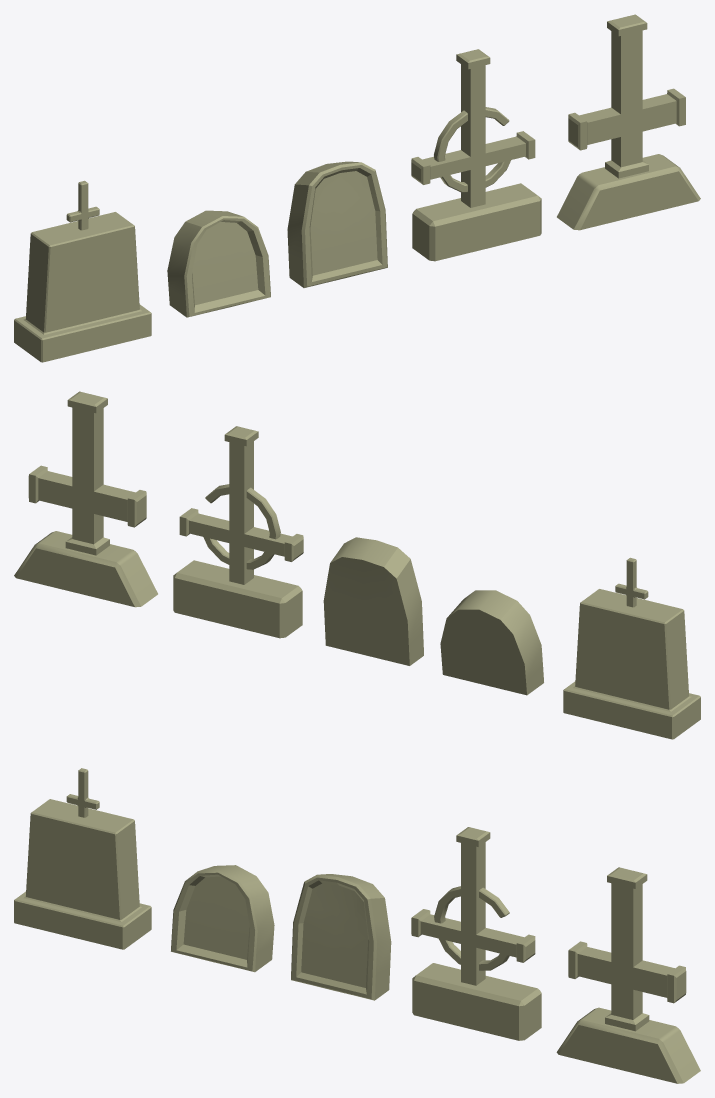
File: Lapidas.obj
3 views of the same model, one above another, from view 1: azimuth 30°, elevation 25°; view 2: azimuth 150°, elevation 25°; view 3: azimuth 330°, elevation 25° (orthographic).
Visible parts, largest first — view 1: pCube5, polySurface2, pCube10, pCube2, pCube1; view 2: pCube5, polySurface2, pCube10, pCube2, pCube1; view 3: pCube5, pCube10, polySurface2, pCube2, pCube1.
Part boxes in pixels (bbox=[...]): pCube5: bbox=[14, 180, 151, 362]; polySurface2: bbox=[411, 49, 541, 261]; pCube10: bbox=[557, 14, 700, 230]; pCube2: bbox=[287, 161, 387, 287]; pCube1: bbox=[167, 210, 270, 317]; pCube5: bbox=[563, 557, 700, 739]; polySurface2: bbox=[173, 426, 303, 638]; pCube10: bbox=[14, 391, 157, 607]; pCube2: bbox=[323, 537, 423, 665]; pCube1: bbox=[440, 590, 543, 695]; pCube5: bbox=[14, 768, 151, 949]; pCube10: bbox=[556, 867, 700, 1083]; polySurface2: bbox=[411, 827, 541, 1040]; pCube2: bbox=[291, 874, 391, 1000]; pCube1: bbox=[171, 865, 274, 972].
Size of the model in its own units: 1808 by 496 by 138.
